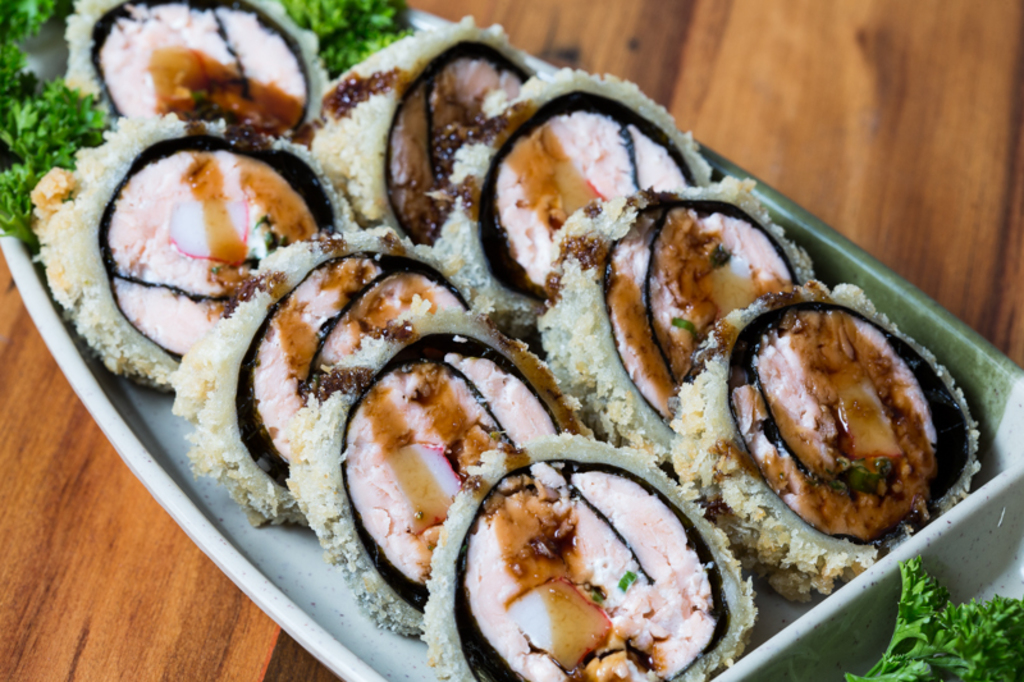sushi: (79, 61, 974, 682)
